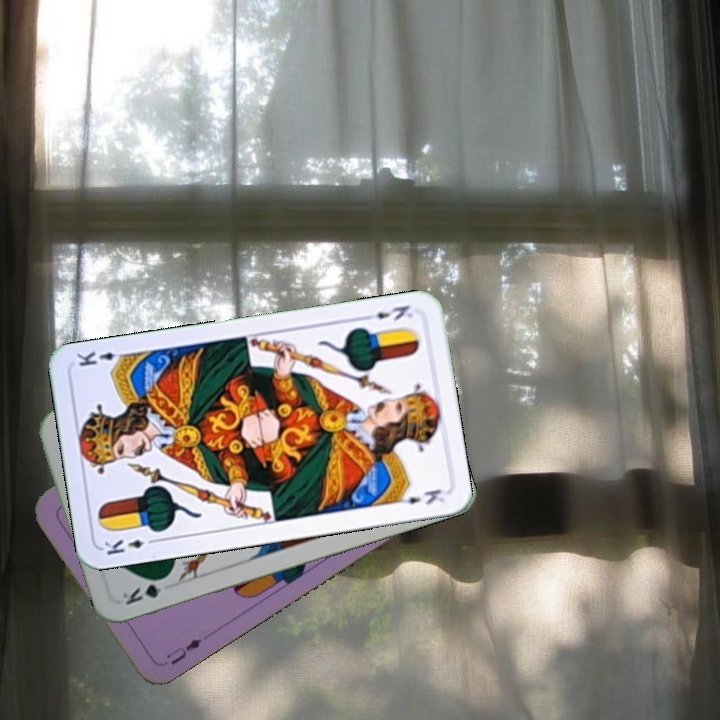EK: (100, 534, 160, 558), (359, 301, 416, 324)
EU: (162, 634, 204, 668)
GK: (118, 572, 172, 608)
